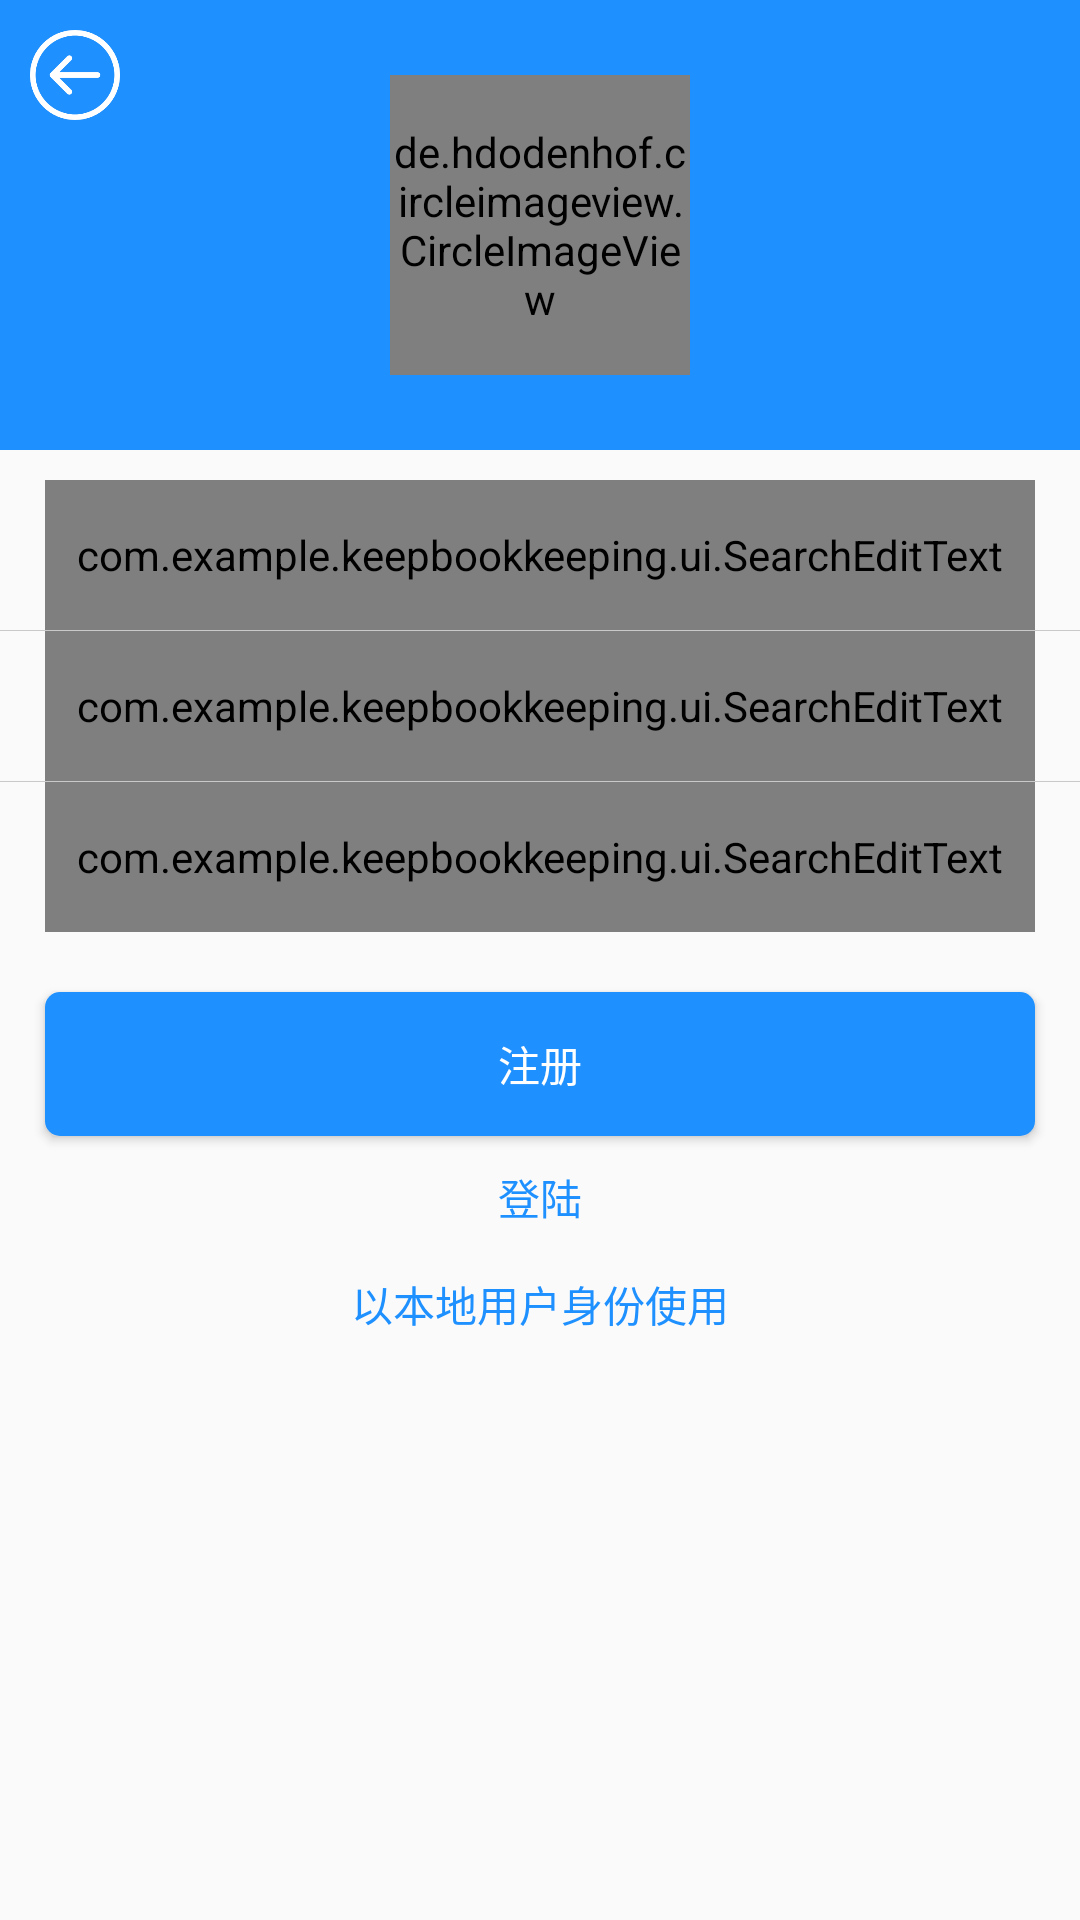

Icons on this 1080w x 1920h Android screen, each with the point to tap as (x,y):
back arrow: (75,75)
